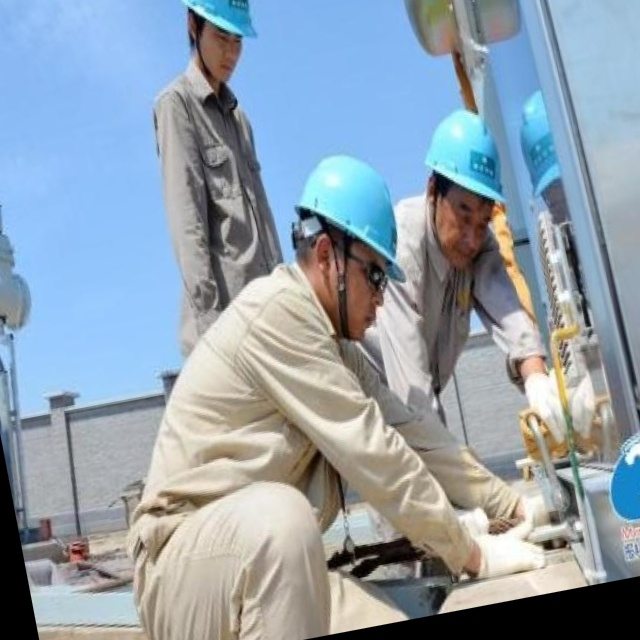Con_Casco: (286, 145, 415, 345), (169, 0, 265, 86)
